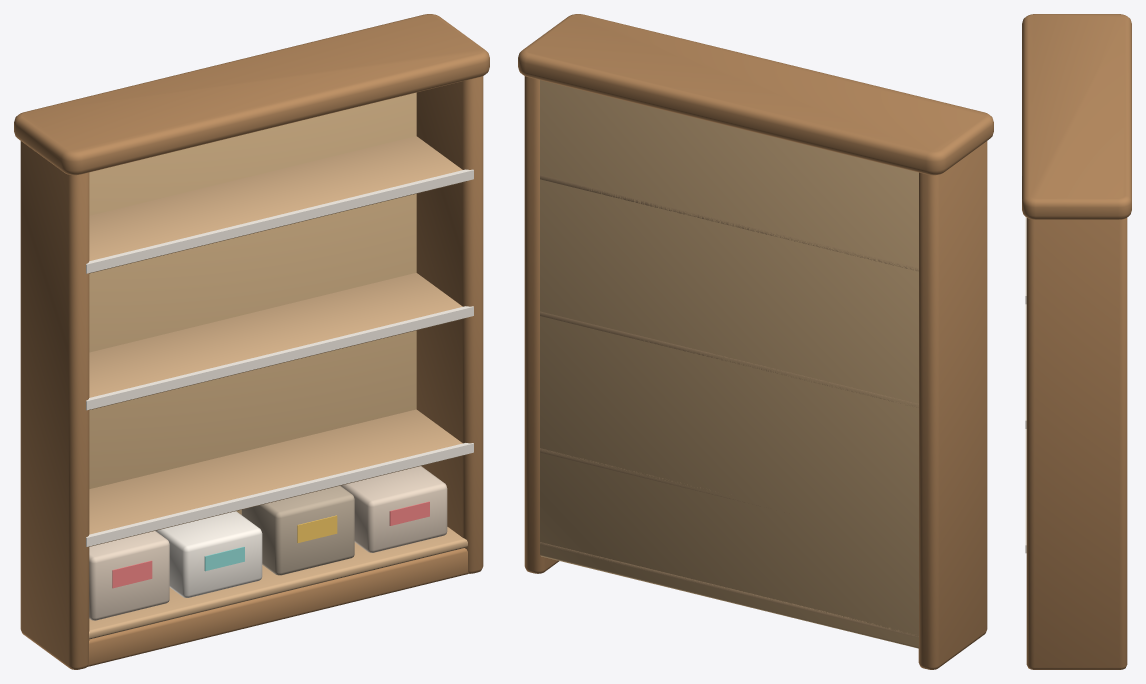
File: shelf_unit.glb
3 views of the same model, side by side, from view 1: azimuth 30°, elevation 25°; view 2: azimuth 150°, elevation 25°; view 3: azimuth 270°, elevation 25° (orthographic). The views are drawn at different scales.
Visible parts, largest first — view 1: shelf_unit; view 2: shelf_unit; view 3: shelf_unit.
Boxes of the visible parts, bbox=[...] form: shelf_unit: bbox=[14, 14, 489, 669]; shelf_unit: bbox=[518, 14, 993, 669]; shelf_unit: bbox=[1022, 14, 1131, 669].
Size of the model in its own units: 1.96 by 2.28 by 0.48.
